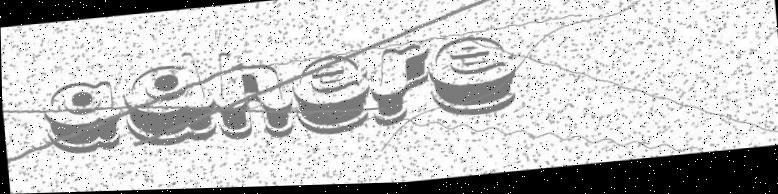a: (38, 78, 121, 158)
d: (119, 51, 218, 151)
e: (425, 35, 516, 123), (290, 53, 373, 139)
h: (211, 46, 297, 145)
r: (365, 45, 432, 130)
